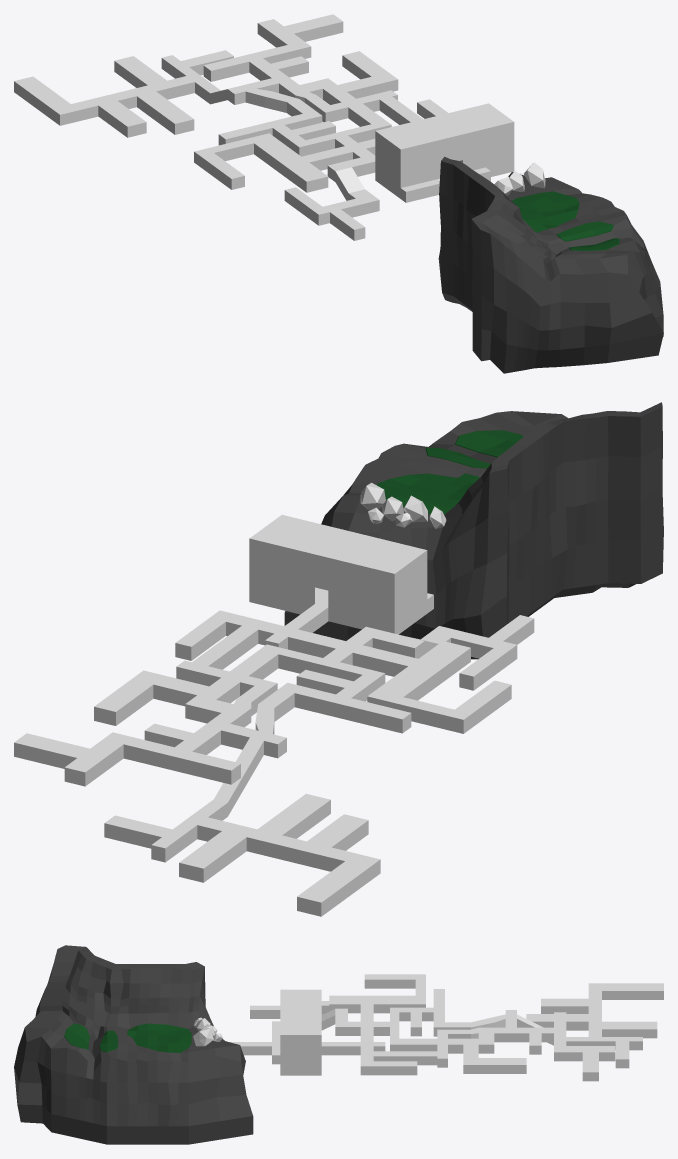
The model's file is platform mountain.fbx.
3 views of the same model, one above another, from view 1: azimuth 30°, elevation 25°; view 2: azimuth 150°, elevation 25°; view 3: azimuth 270°, elevation 25° (orthographic). The views are drawn at different scales.
Visible parts, largest first — view 1: Cube.001, Cube; view 2: Cube.001, Cube; view 3: Cube, Cube.001.
Part boxes in pixels (<box>): Cube.001: <box>14,14,514,240</box>; Cube: <box>438,156,663,373</box>; Cube.001: <box>14,514,534,916</box>; Cube: <box>284,402,663,659</box>; Cube: <box>14,945,253,1144</box>; Cube.001: <box>229,974,663,1081</box>.
Bounding box in the file's own units: 5793 × 2736 × 13057.
